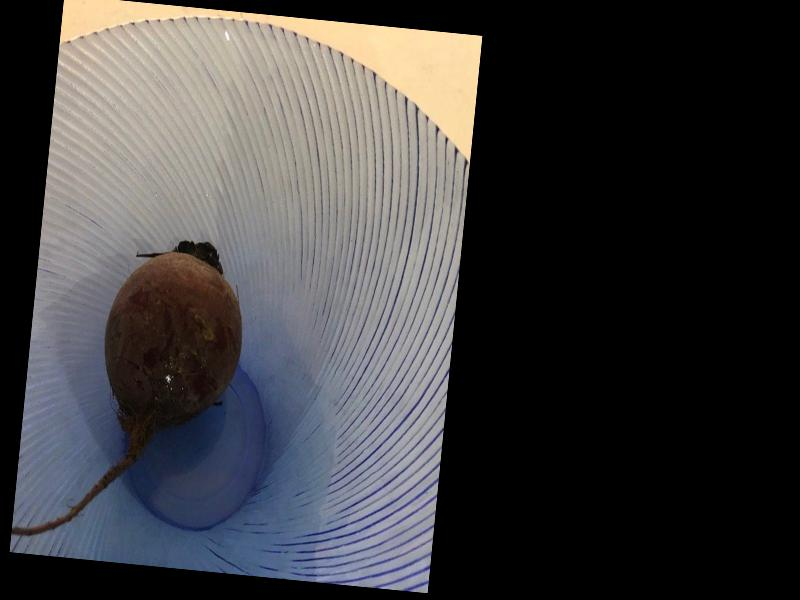Beet: (11, 224, 251, 554)
